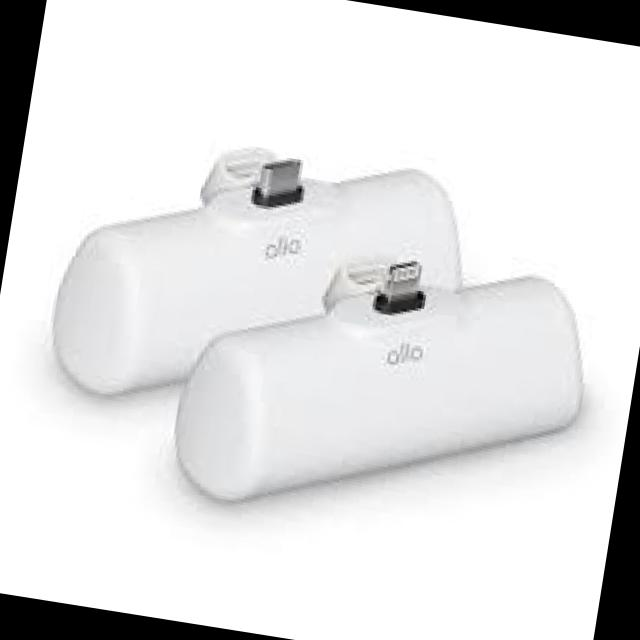power_bank: (41, 111, 488, 448), (164, 225, 610, 562)
